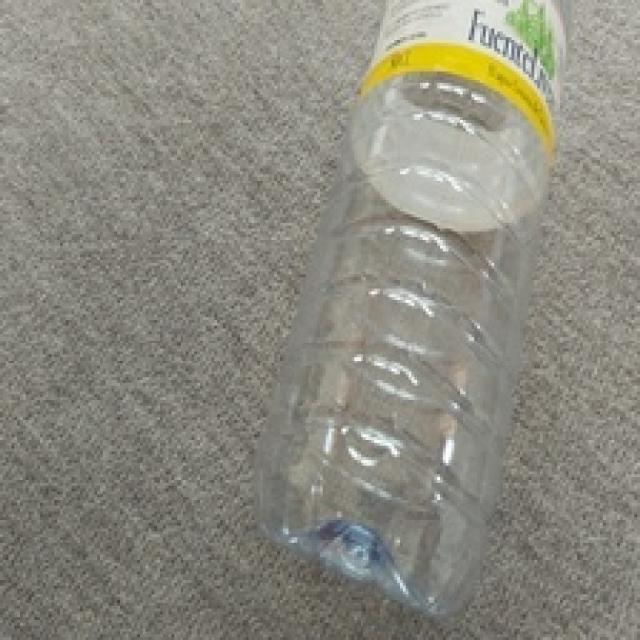Plastic: (257, 0, 568, 616)
